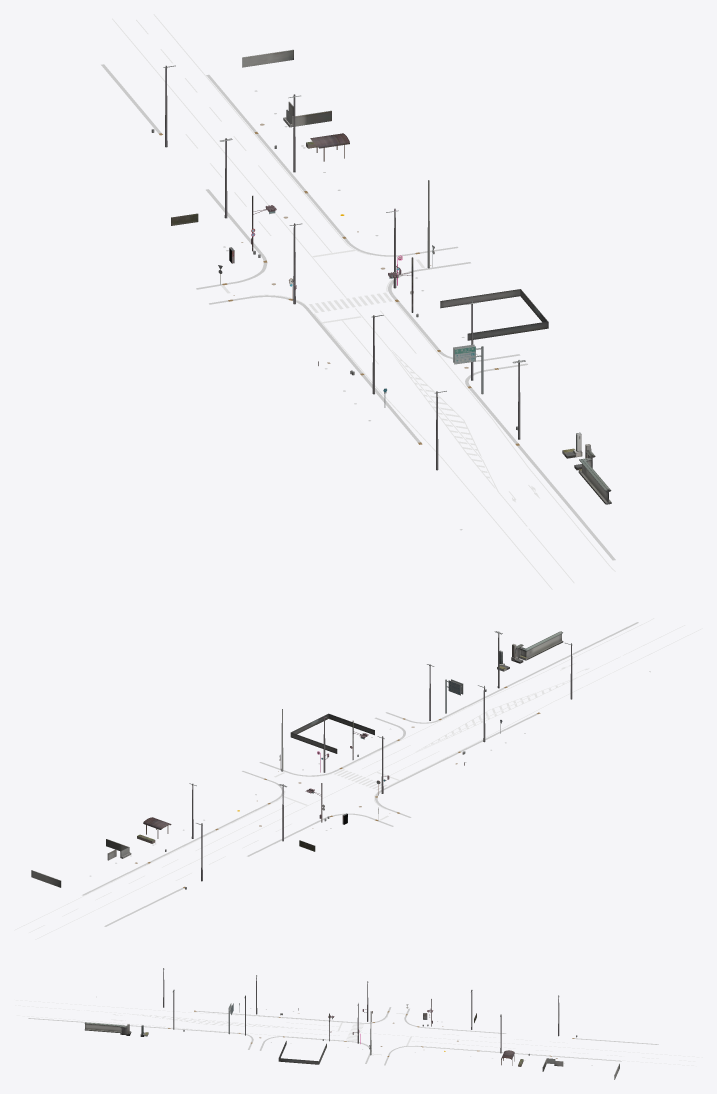
File: frn--10.glb
The picture shows the model from 3 angles, top to bottom: view 1: azimuth 30°, elevation 25°; view 2: azimuth 150°, elevation 25°; view 3: azimuth 270°, elevation 25°; orthographic projection. The views are drawn at different scales.
Size of the model in its own units: 56.07 by 13.86 by 190.
2 materials, 1 textured.
